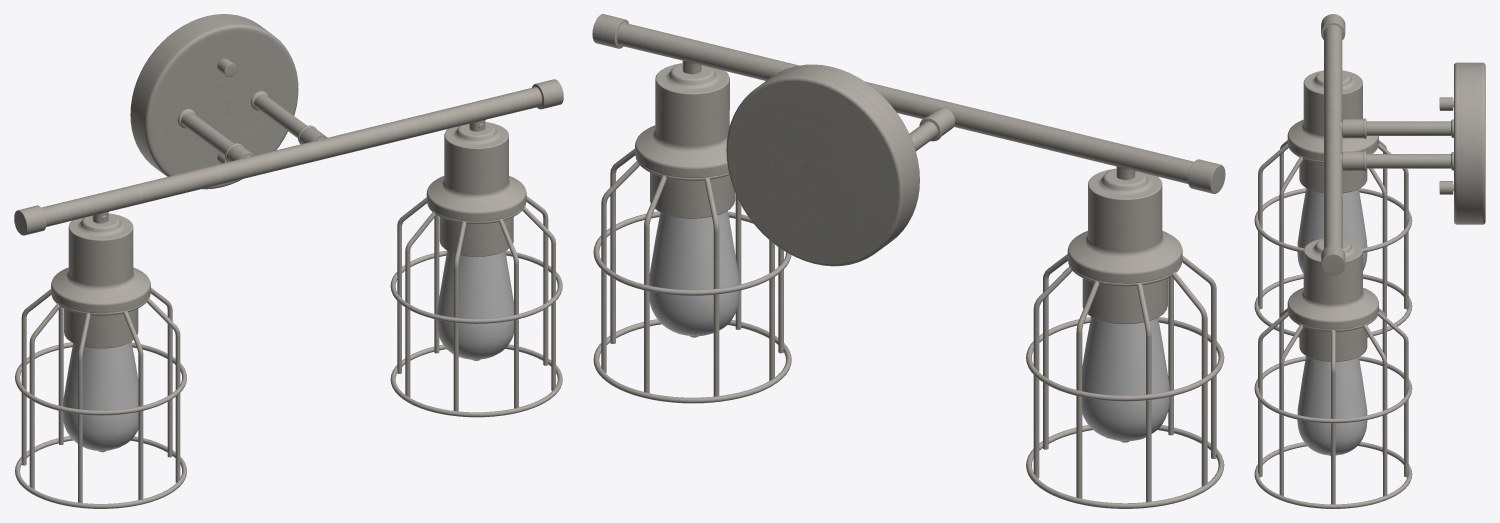
The model's file is abo-B082JH9VWG.glb.
3 views of the same model, side by side, from view 1: azimuth 30°, elevation 25°; view 2: azimuth 150°, elevation 25°; view 3: azimuth 270°, elevation 25° (orthographic). The views are drawn at different scales.
Size of the model in its own units: 0.406 by 0.254 by 0.165.
Materials: 1 (1 with a texture image).
